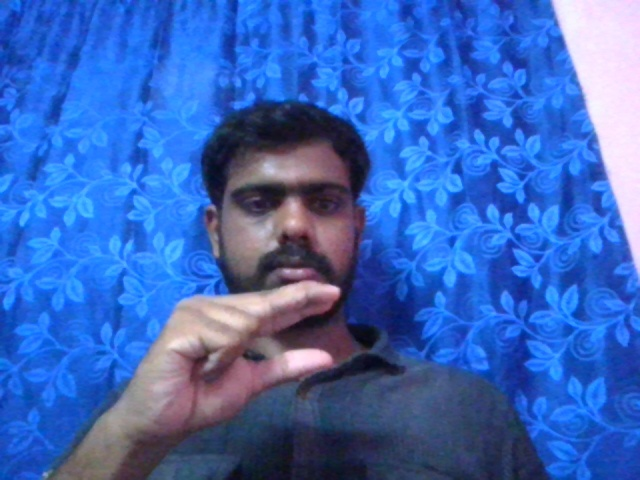No: (124, 266, 344, 436)
